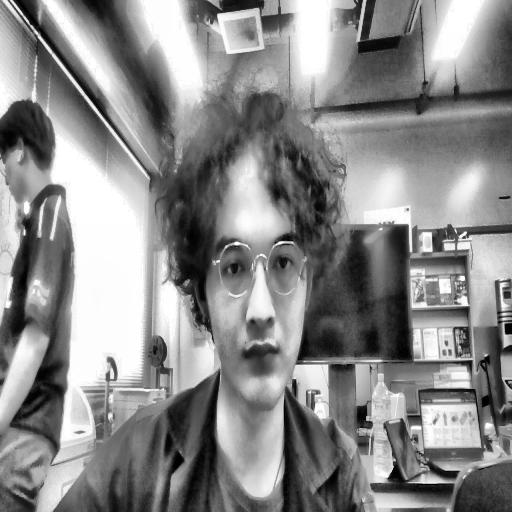Daifuku: (162, 91, 340, 412)
Not Daifuku: (0, 98, 54, 195)
